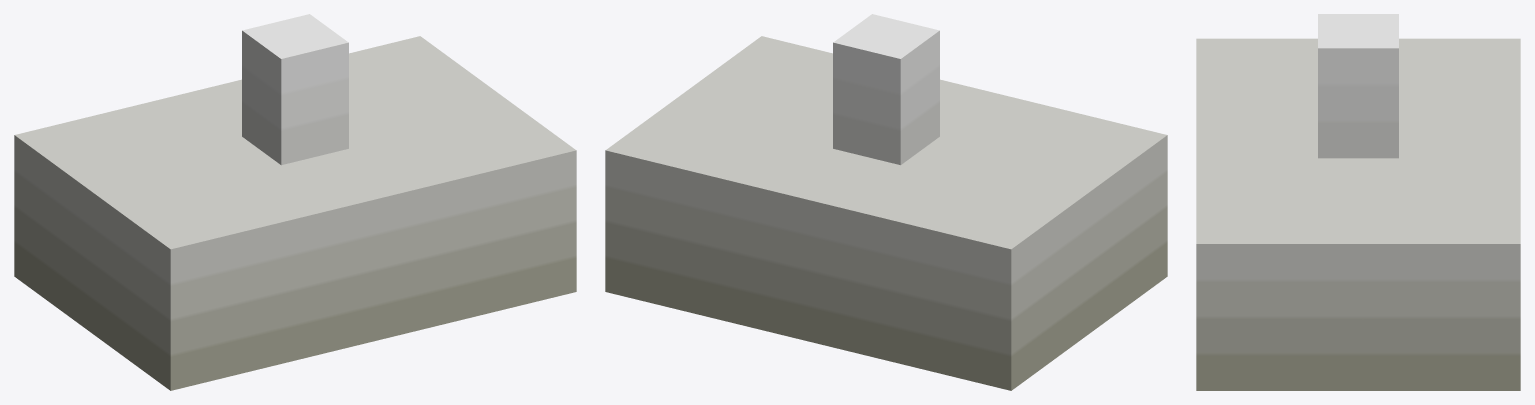
3 renders of one model, left to right at view 1: azimuth 30°, elevation 25°; view 2: azimuth 150°, elevation 25°; view 3: azimuth 270°, elevation 25°, orthographic. The views are drawn at different scales.
Visible parts, largest first — view 1: Root072; view 2: Root072; view 3: Root072.
Boxes of the visible parts, x1,y1,x2,y2 form: Root072: (14,14,576,390); Root072: (605,14,1167,390); Root072: (1196,14,1520,390).
Bounding box in the file's own units: 12 × 7 × 8.
